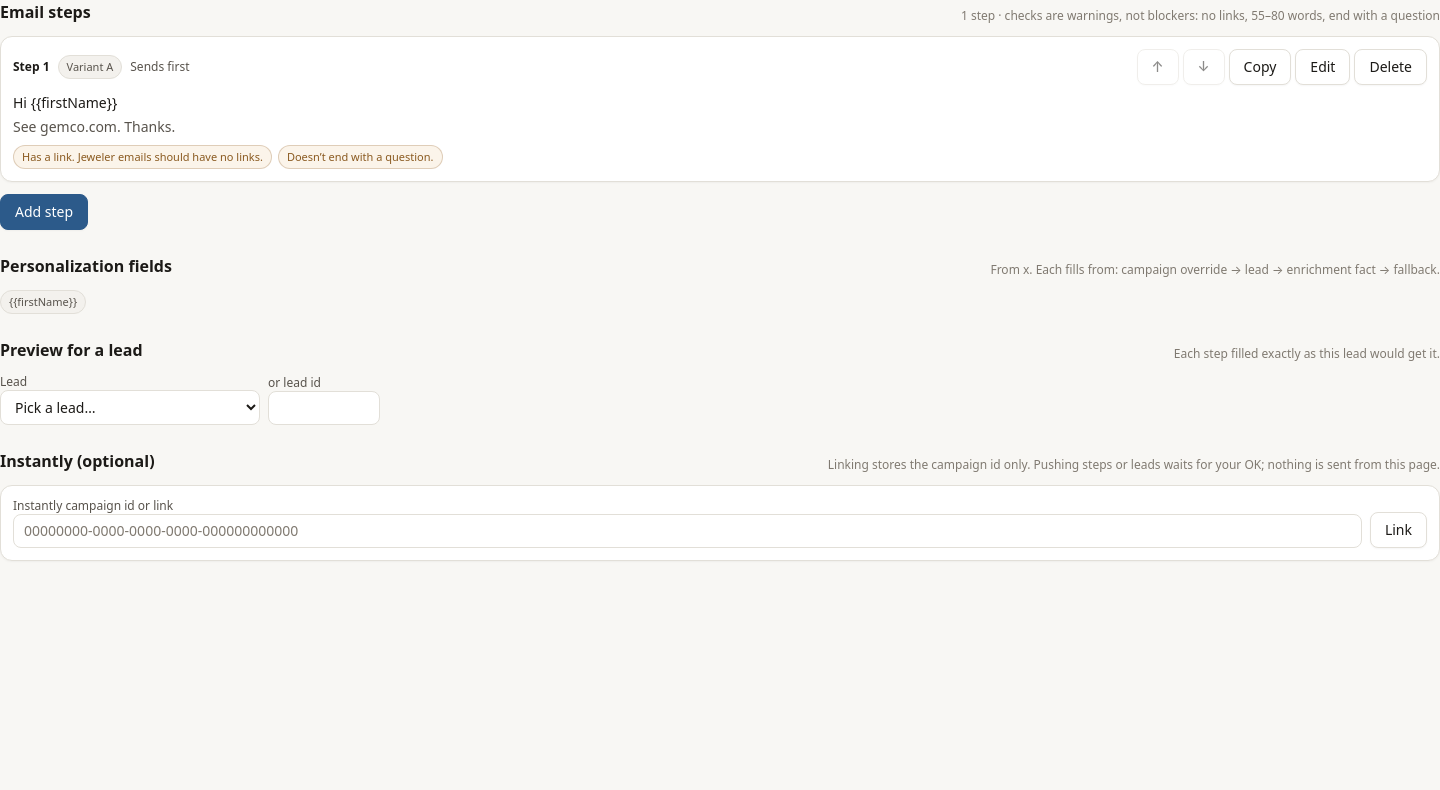
Test: Steps tab › loads a lead preview and flags what is missing
This screenshot has width=1440, height=790.
Select "Bare Gems" in the dropdown labelled "Lead": (130, 408) [0,390,260,425]
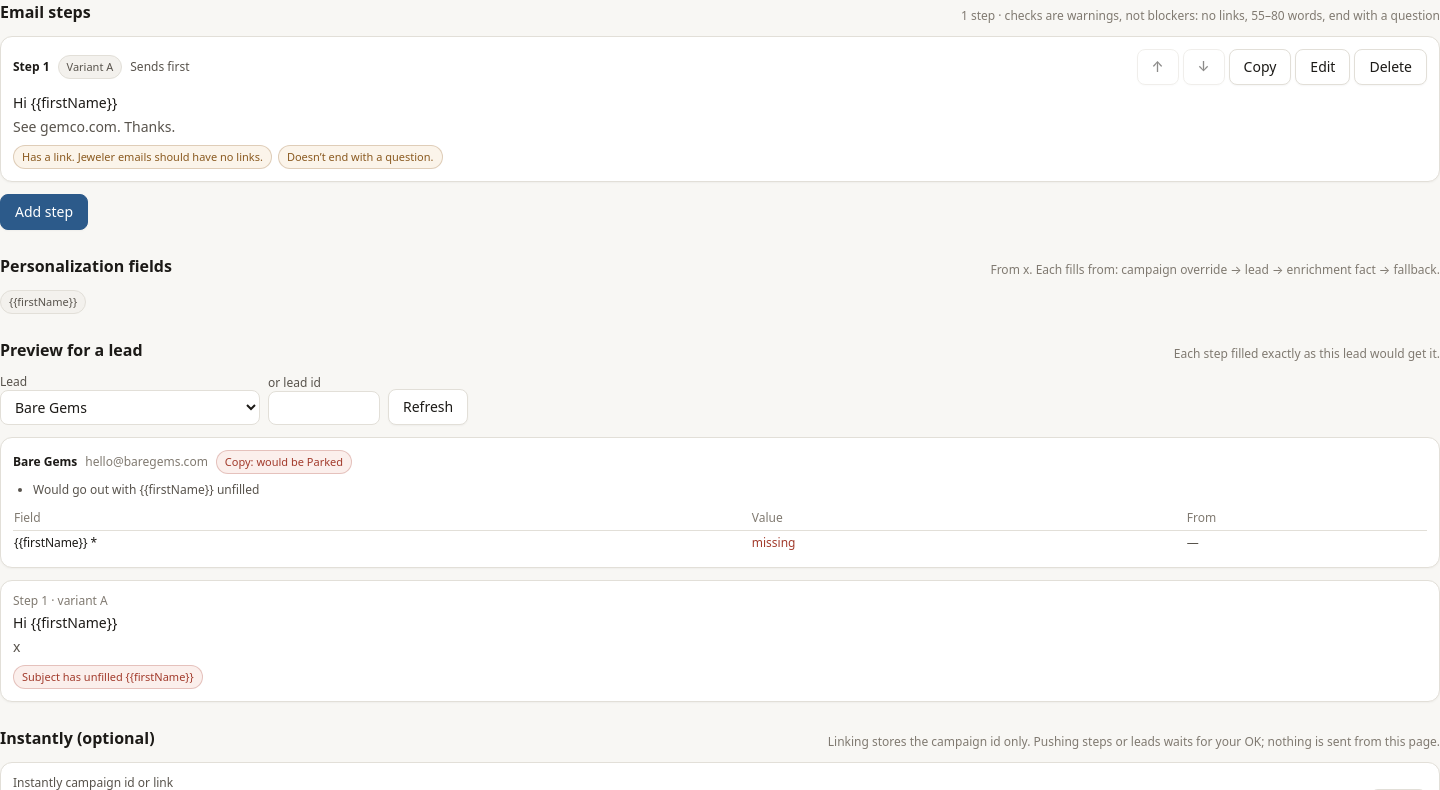
Now the element with test id "lead-preview" is shown, box [0,437,1439,702]
Now the text "Copy: would be Parked" is shown, box [216,450,352,474]
Now the text "missing" is shown, box [752,534,796,551]
